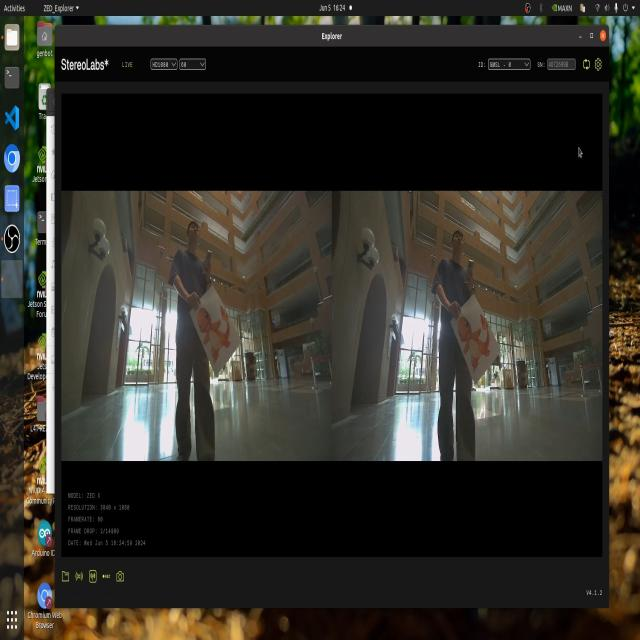red: (461, 306, 497, 365), (200, 296, 229, 358)
